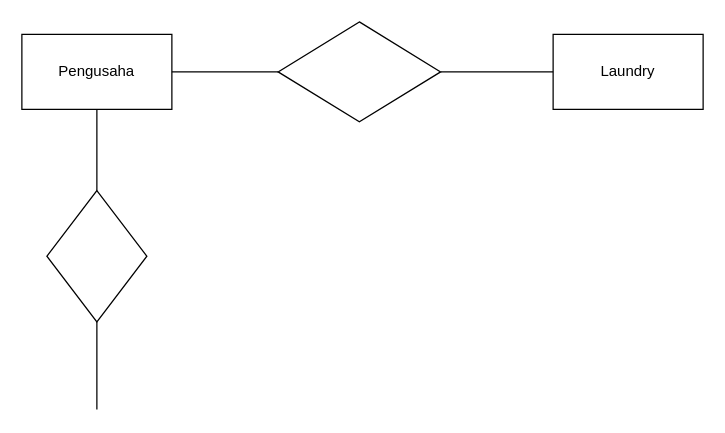
This 725x433 diagram has some shape labels left out. Each missing label, with the box of its shape:
Memiliki: (277, 21, 441, 122)
Mengatur: (46, 189, 147, 322)
